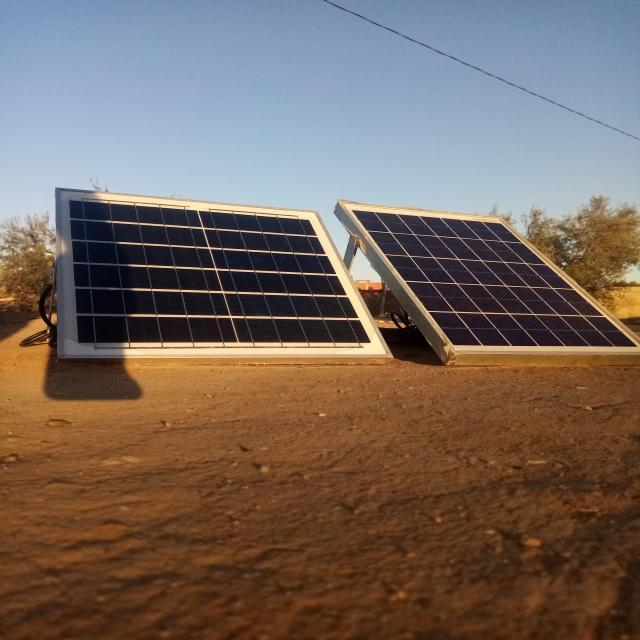no faulty: (57, 188, 390, 358), (341, 205, 640, 354)
